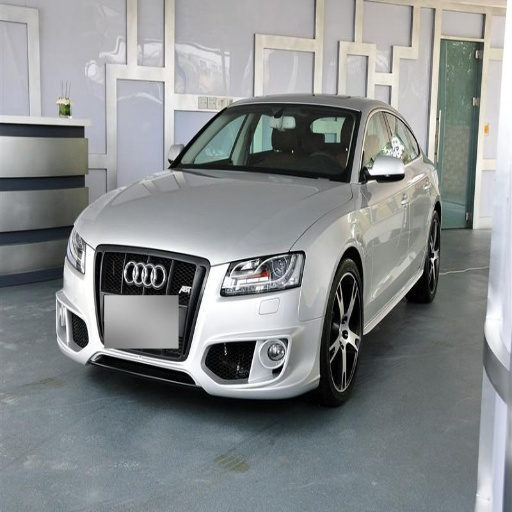back_glass: (388, 110, 429, 272)
back_right_light: (57, 235, 325, 398)
front_bumper: (172, 105, 358, 181)
front_glass: (359, 108, 407, 304)
front_left_door: (218, 250, 305, 299)
front_right_light: (77, 169, 344, 262)
trunk: (319, 259, 362, 405)
